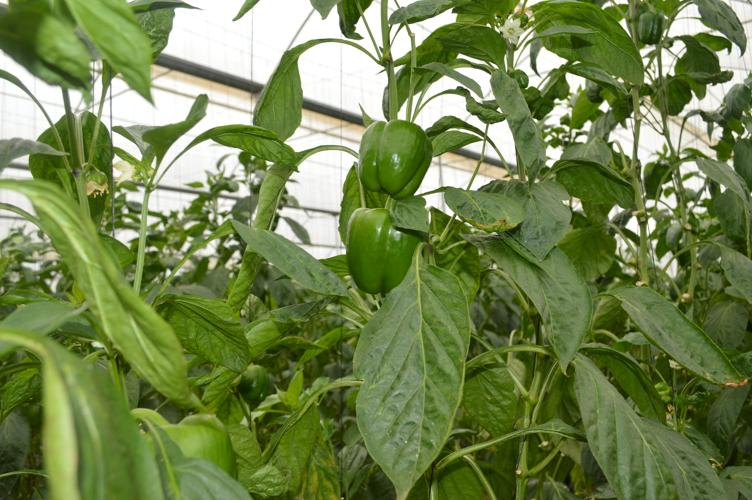BellPepper: (330, 203, 417, 294), (346, 117, 432, 202)
